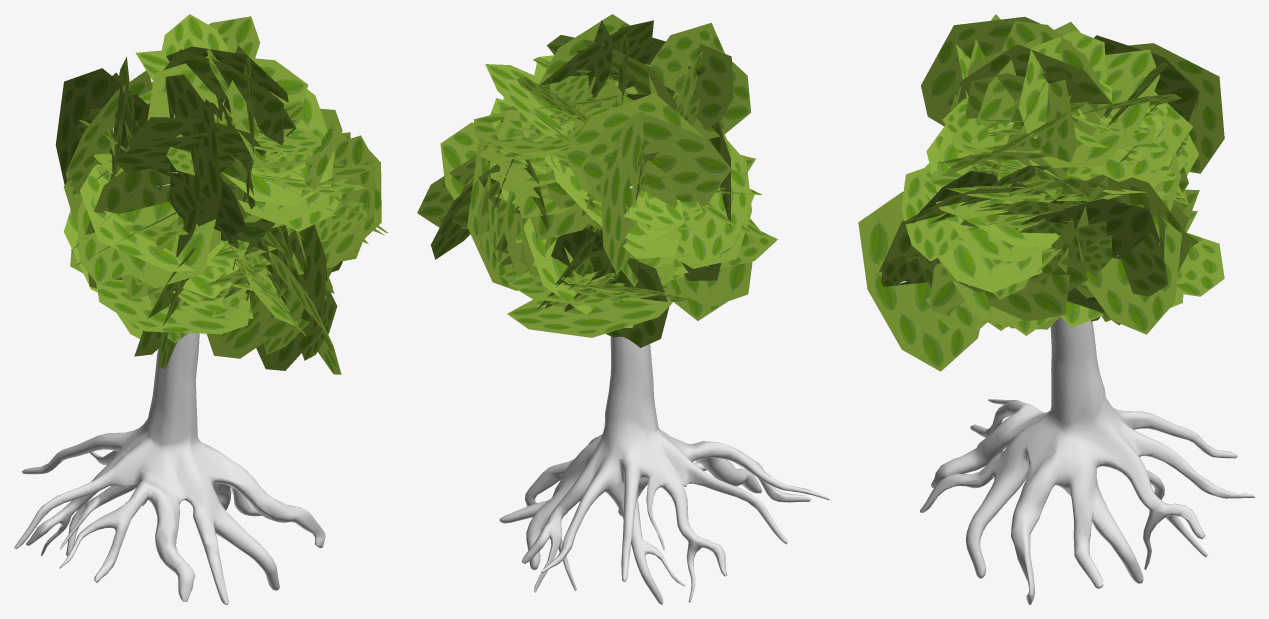
File: MangroveTreeFinished.fbx
3 views of the same model, side by side, from view 1: azimuth 30°, elevation 25°; view 2: azimuth 150°, elevation 25°; view 3: azimuth 270°, elevation 25° (orthographic). The views are drawn at different scales.
Visible parts, largest first — view 1: Leaves, MangroveTree; view 2: Leaves, MangroveTree; view 3: Leaves, MangroveTree.
Boxes of the visible parts, x1,y1,x2,y2 form: Leaves: (55,14,388,374); MangroveTree: (14,94,325,604); Leaves: (417,14,777,347); MangroveTree: (499,70,829,604); Leaves: (858,14,1224,371); MangroveTree: (900,122,1254,604).
Bounding box in the file's own units: 864 × 1339 × 885.
